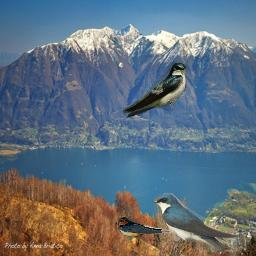Swallow: (154, 193, 237, 252), (123, 62, 187, 118), (117, 216, 172, 238)
